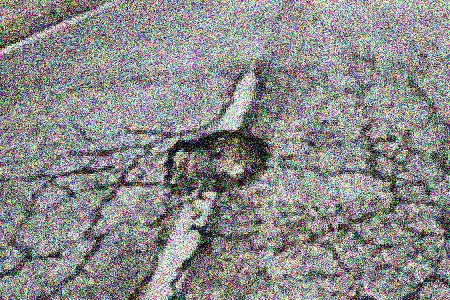pothole: (162, 128, 271, 196)
